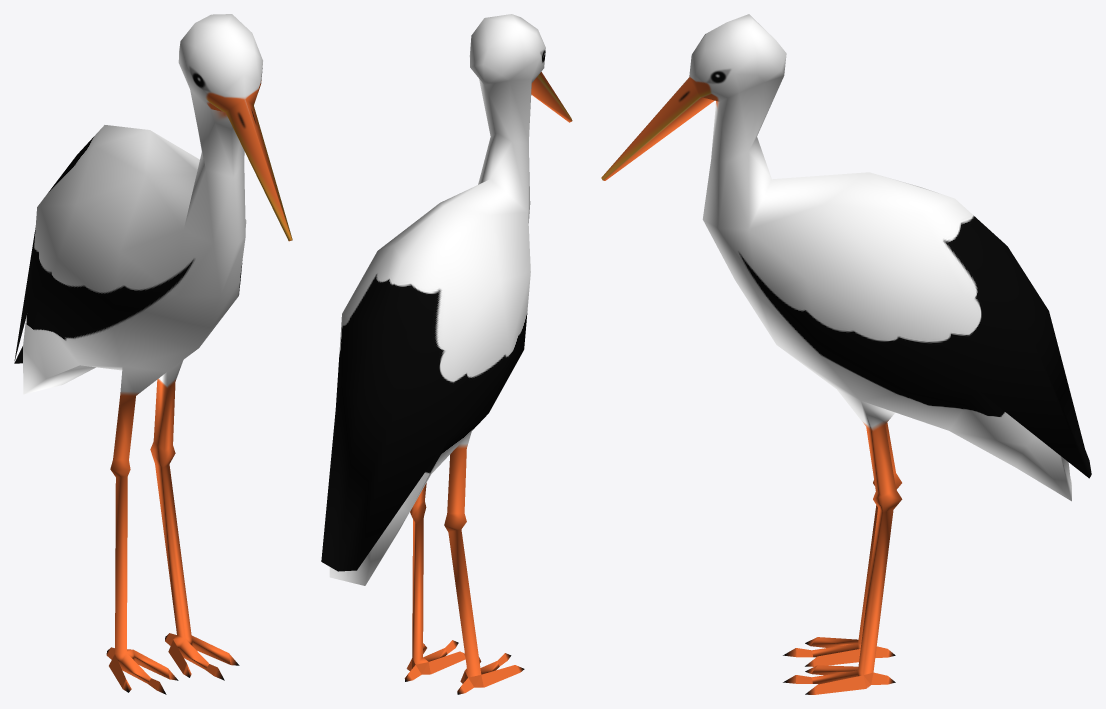
File: stork.glb
The picture shows the model from 3 angles, left to right: view 1: azimuth 30°, elevation 25°; view 2: azimuth 150°, elevation 25°; view 3: azimuth 270°, elevation 25°; orthographic projection. The views are drawn at different scales.
Parts seen in each view (by area): view 1: Stork; view 2: Stork; view 3: Stork.
Boxes of the visible parts, x1,y1,x2,y2 form: Stork: (14, 14, 292, 694); Stork: (321, 14, 572, 694); Stork: (601, 14, 1091, 694).
Size of the model in its own units: 0.3543 by 1.36 by 0.9353.
Materials: 1 (1 with a texture image).
